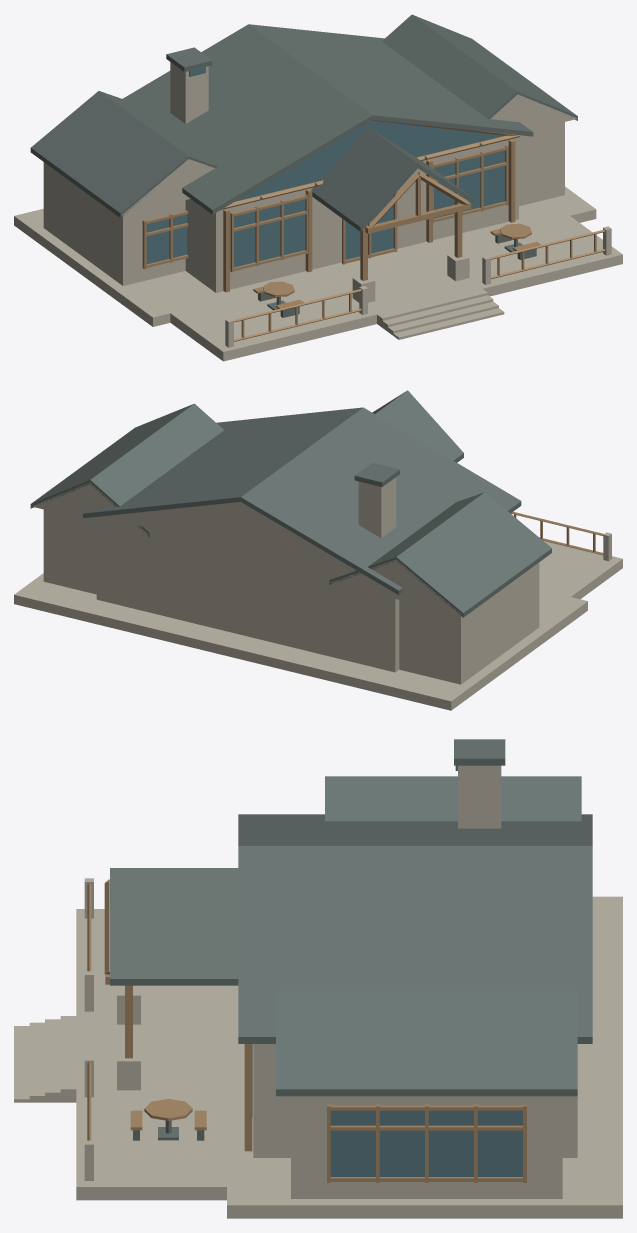
The model's file is clubhouse_lodge_v2.glb.
3 views of the same model, one above another, from view 1: azimuth 30°, elevation 25°; view 2: azimuth 150°, elevation 25°; view 3: azimuth 270°, elevation 25° (orthographic). The views are drawn at different scales.
Parts seen in each view (by area): view 1: Clubhouse_lodge_v2; view 2: Clubhouse_lodge_v2; view 3: Clubhouse_lodge_v2.
Boxes of the visible parts, left/top/right/bottom form: Clubhouse_lodge_v2: left=14, top=14, right=622, bottom=361; Clubhouse_lodge_v2: left=14, top=390, right=622, bottom=710; Clubhouse_lodge_v2: left=14, top=739, right=622, bottom=1218.
Bounding box in the file's own units: 19.76 × 7.42 × 16.49.
